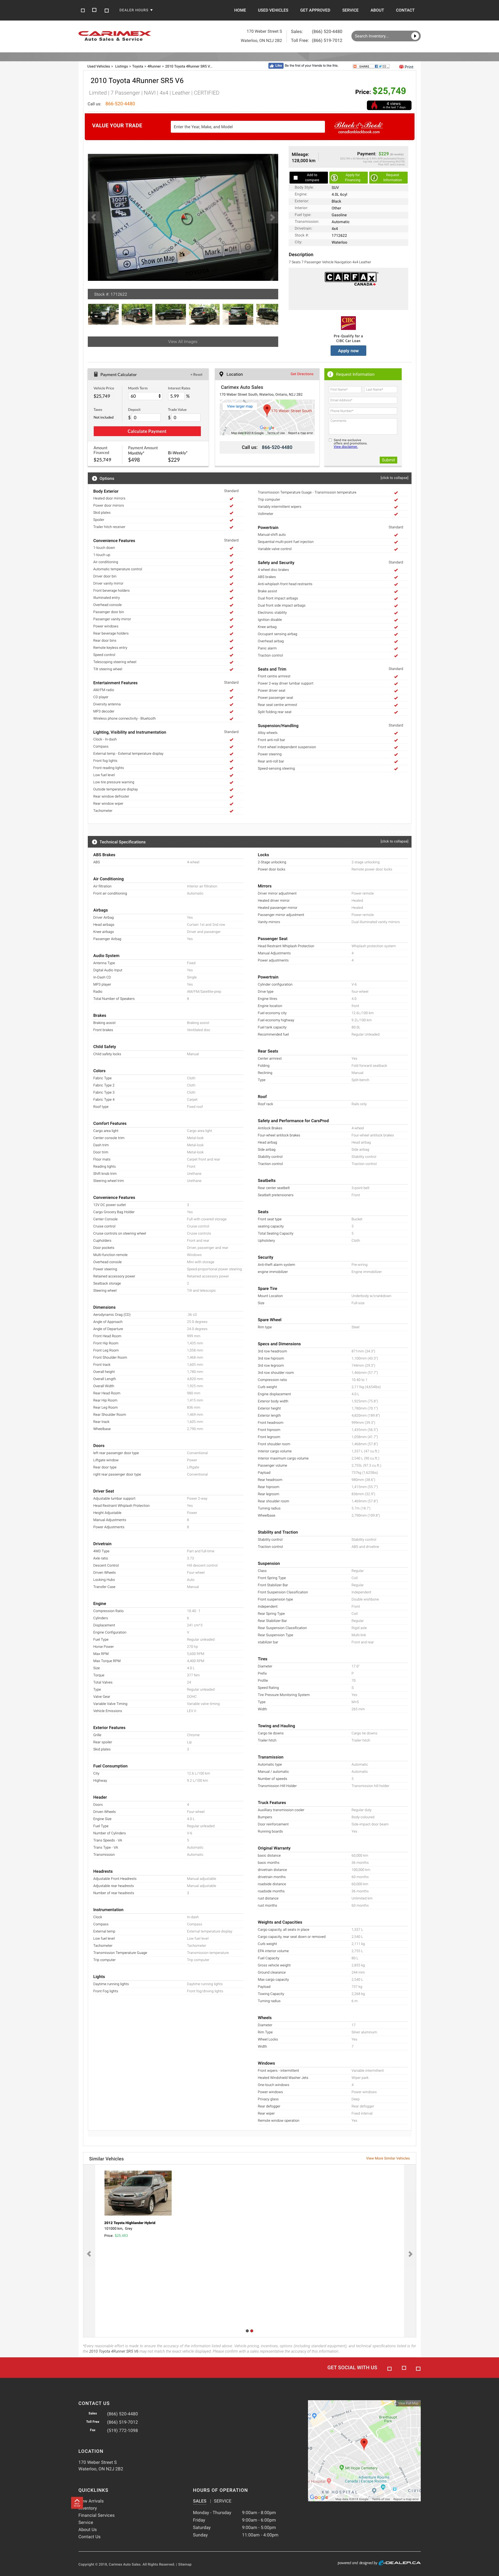car: (266, 212, 279, 225)
